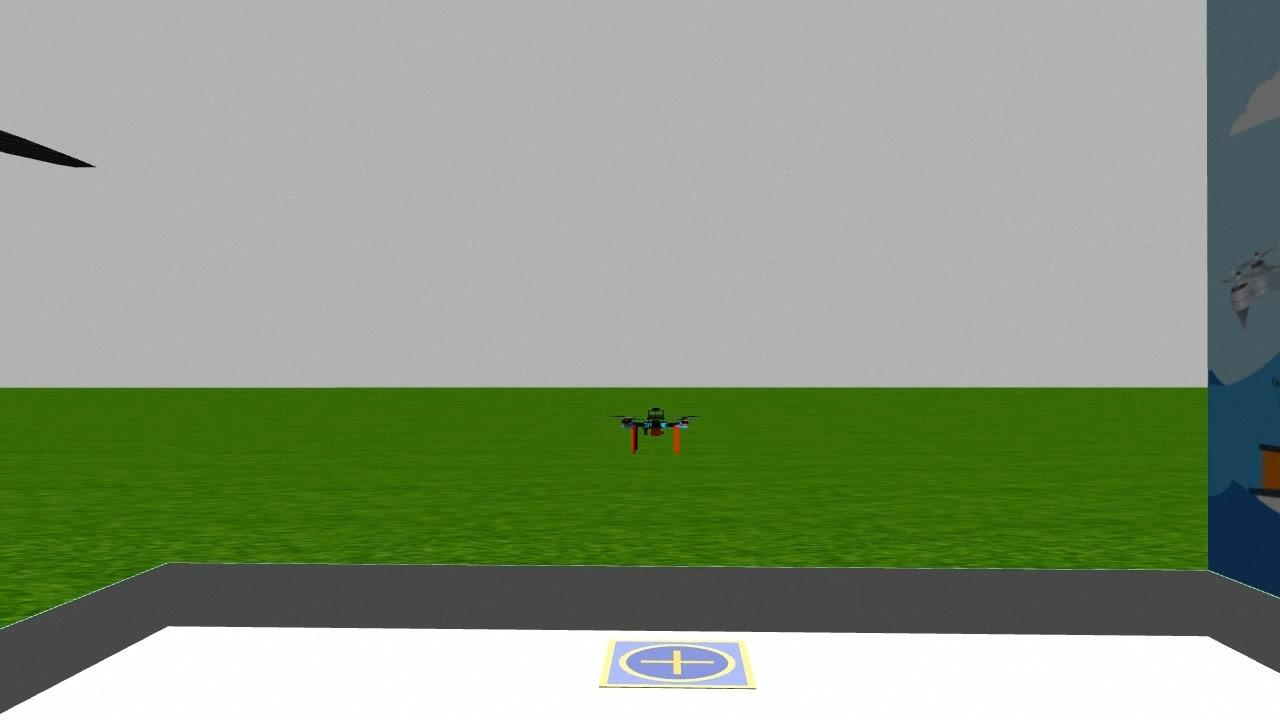UAV: (603, 393, 710, 463)
